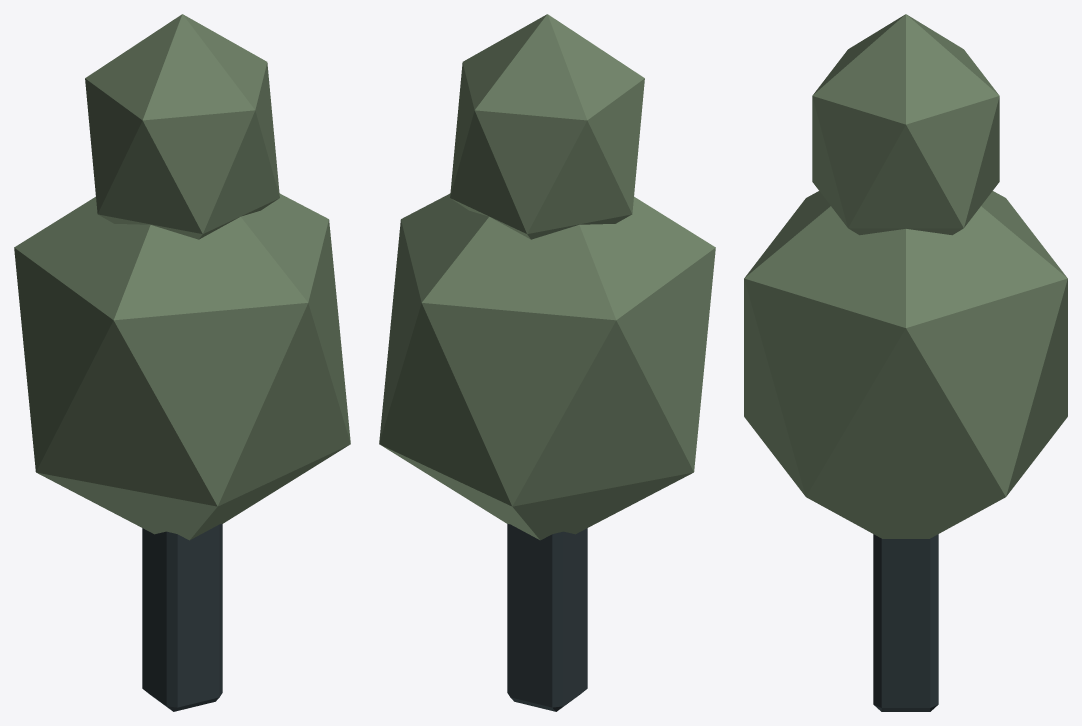
File: terrain-tree-lod0.9191094b3542.glb
The picture shows the model from 3 angles, left to right: view 1: azimuth 30°, elevation 25°; view 2: azimuth 150°, elevation 25°; view 3: azimuth 270°, elevation 25°; orthographic projection.
Visible parts, largest first — view 1: body; view 2: body; view 3: body.
Boxes of the visible parts, bbox=[...] form: body: bbox=[14, 14, 350, 711]; body: bbox=[379, 14, 715, 711]; body: bbox=[744, 14, 1067, 711].
Bounding box in the file's own units: 0.6798 × 1.51 × 0.6465.
